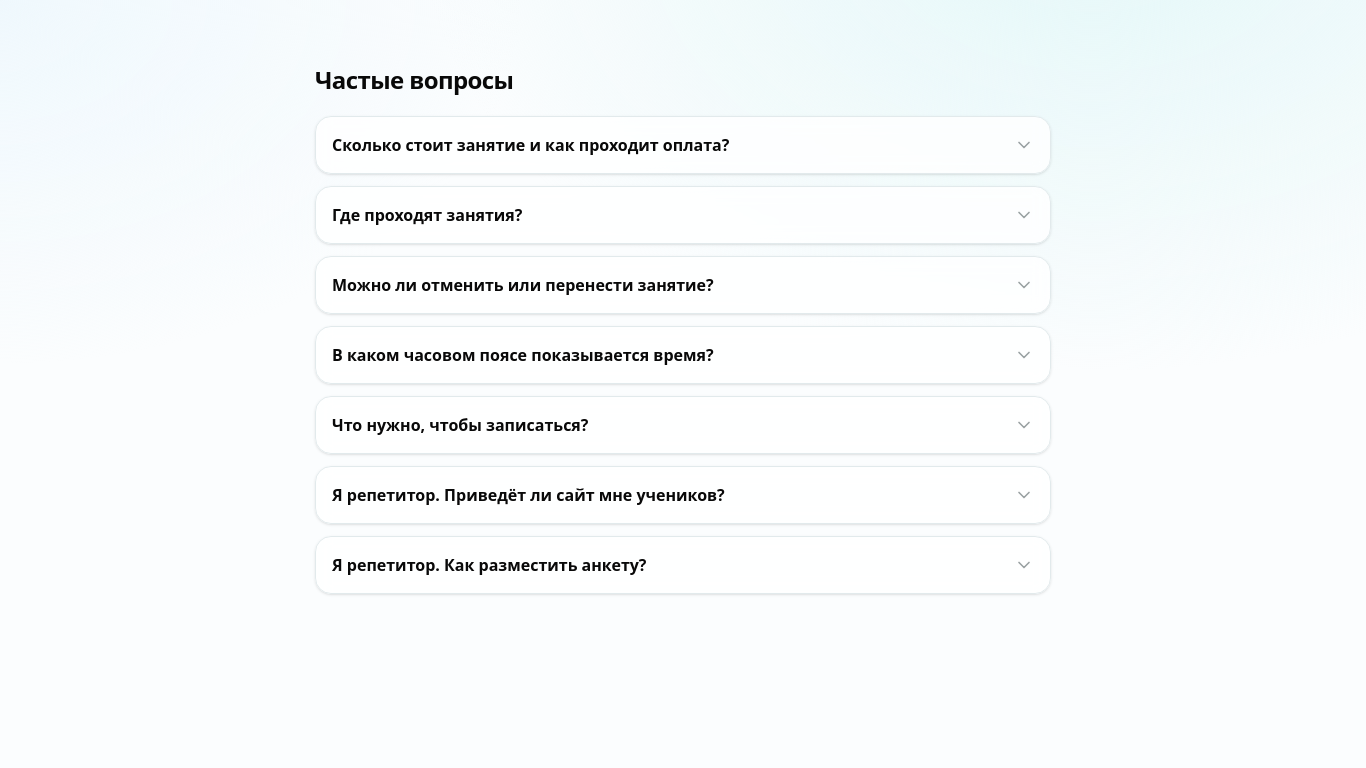
Test: HomeFaq › collapses an open answer when its question is clicked again
The width and height of the screenshot is (1366, 768).
Click the button "Сколько стоит занятие и как проходит оплата?". click: (683, 145)
box: [316,117,1050,173]
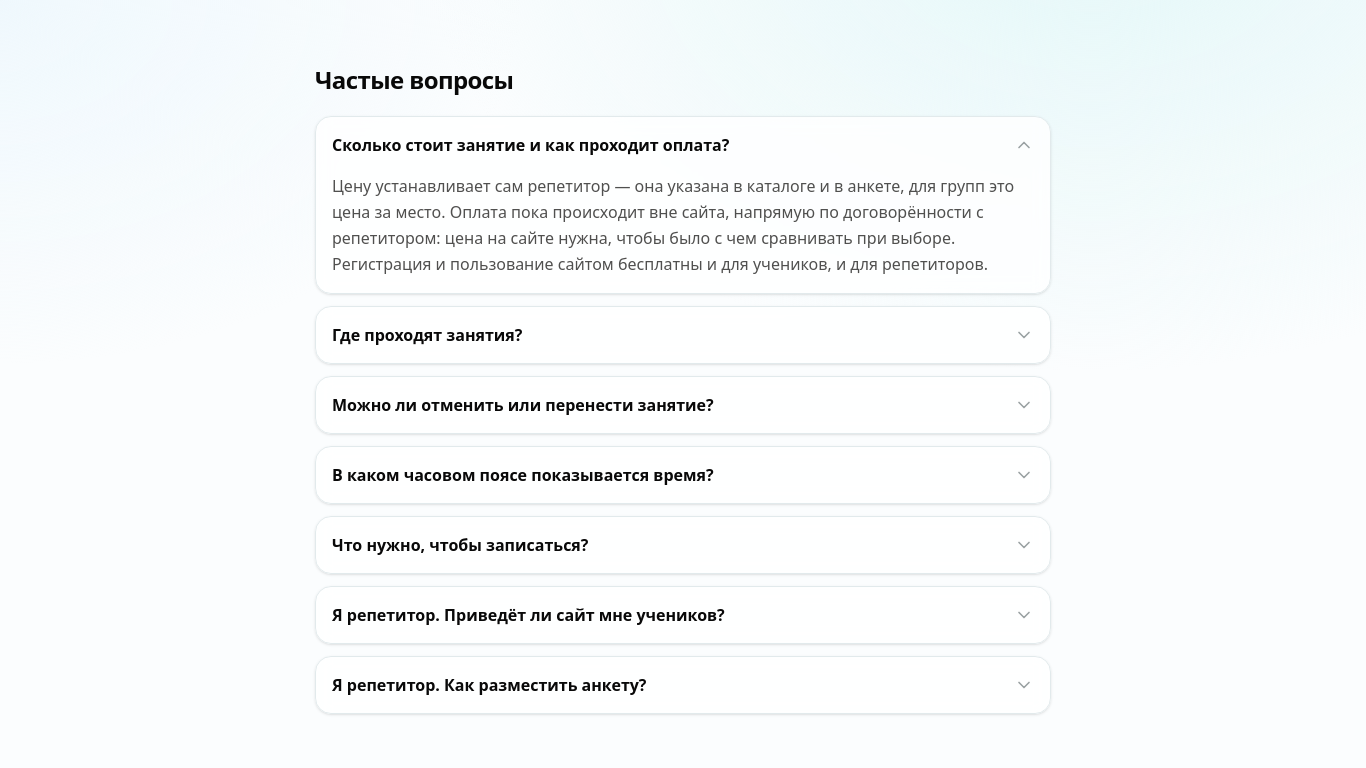
Click the button "Сколько стоит занятие и как проходит оплата?". click: (683, 145)
box: [316,117,1050,173]
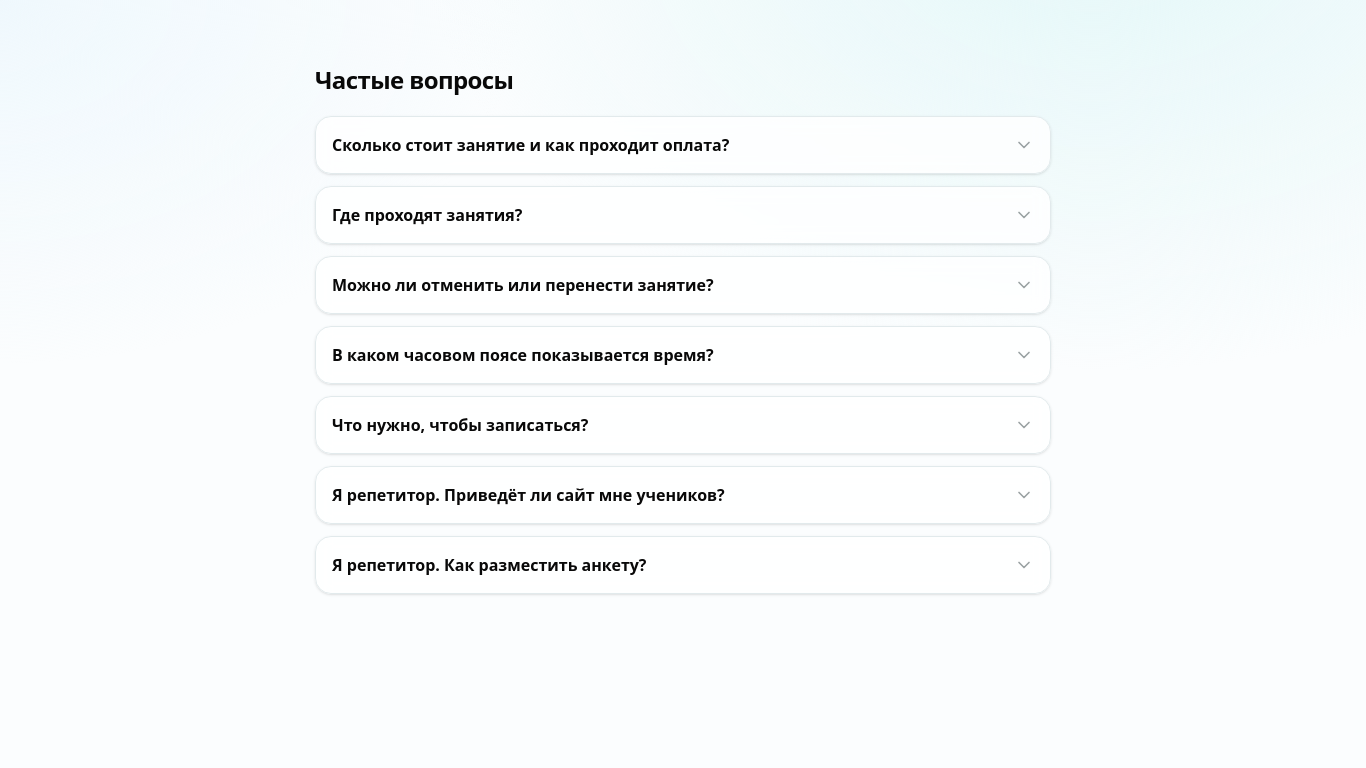
Expected: the button "Сколько стоит занятие и как проходит оплата?" is collapsed, [316,117,1050,173]
